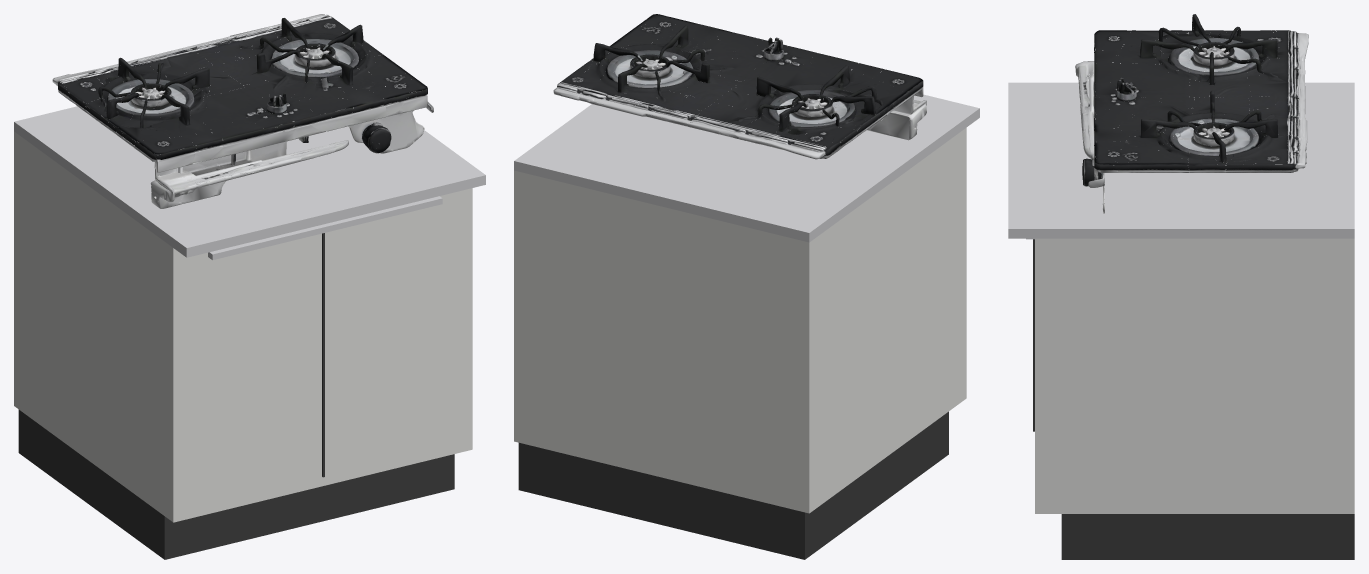
Rendered from gas_stove.glb.
3 renders of one model, left to right at view 1: azimuth 30°, elevation 25°; view 2: azimuth 150°, elevation 25°; view 3: azimuth 270°, elevation 25°, orthographic.
Parts seen in each view (by area): view 1: gas_stove; view 2: gas_stove; view 3: gas_stove.
Boxes of the visible parts, <box> form: gas_stove: <box>14,14,485,559</box>; gas_stove: <box>514,14,979,559</box>; gas_stove: <box>1008,14,1354,559</box>.
Bounding box in the file's own units: 0.65 × 0.8499 × 0.65.
Materials: 4 (1 with a texture image).
